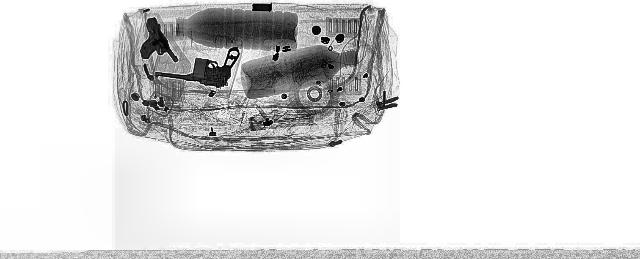Gun: (151, 41, 255, 87), (126, 16, 178, 63)
